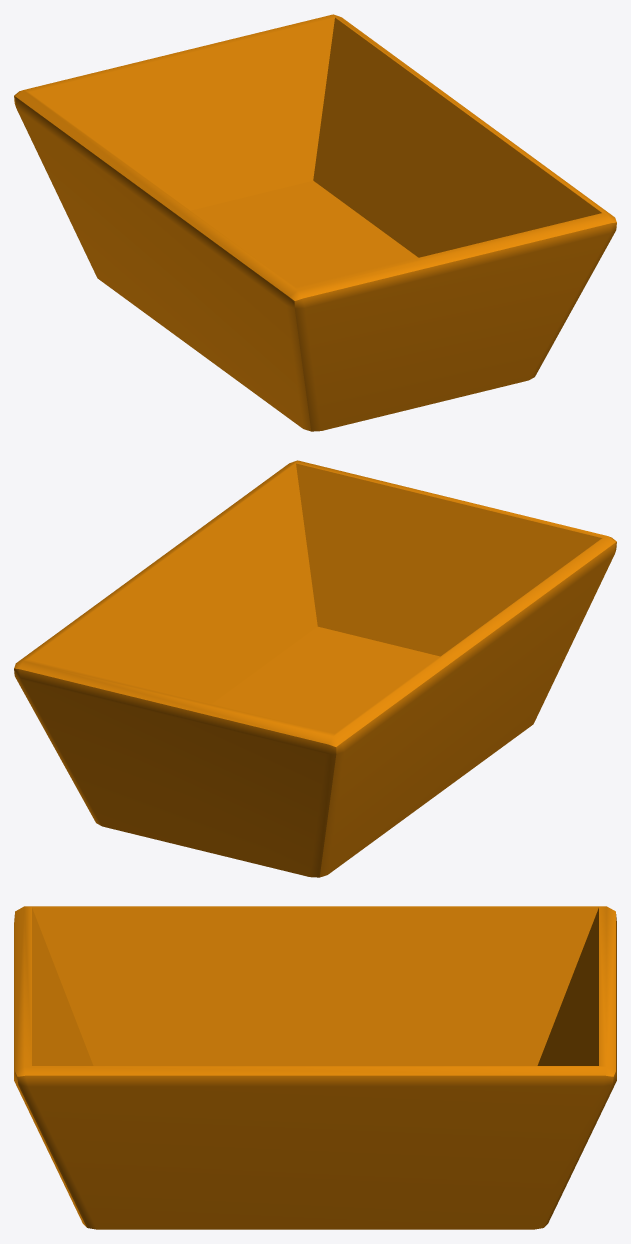
Rendered from Basket.fbx.
3 renders of one model, top to bottom at view 1: azimuth 30°, elevation 25°; view 2: azimuth 150°, elevation 25°; view 3: azimuth 270°, elevation 25°, orthographic. The views are drawn at different scales.
Parts seen in each view (by area): view 1: pCube17; view 2: pCube17; view 3: pCube17.
Boxes of the visible parts, bbox=[...] form: pCube17: bbox=[14, 14, 616, 431]; pCube17: bbox=[14, 460, 616, 877]; pCube17: bbox=[14, 906, 616, 1229].
Size of the model in its own units: 1.3 by 0.6516 by 1.94.
